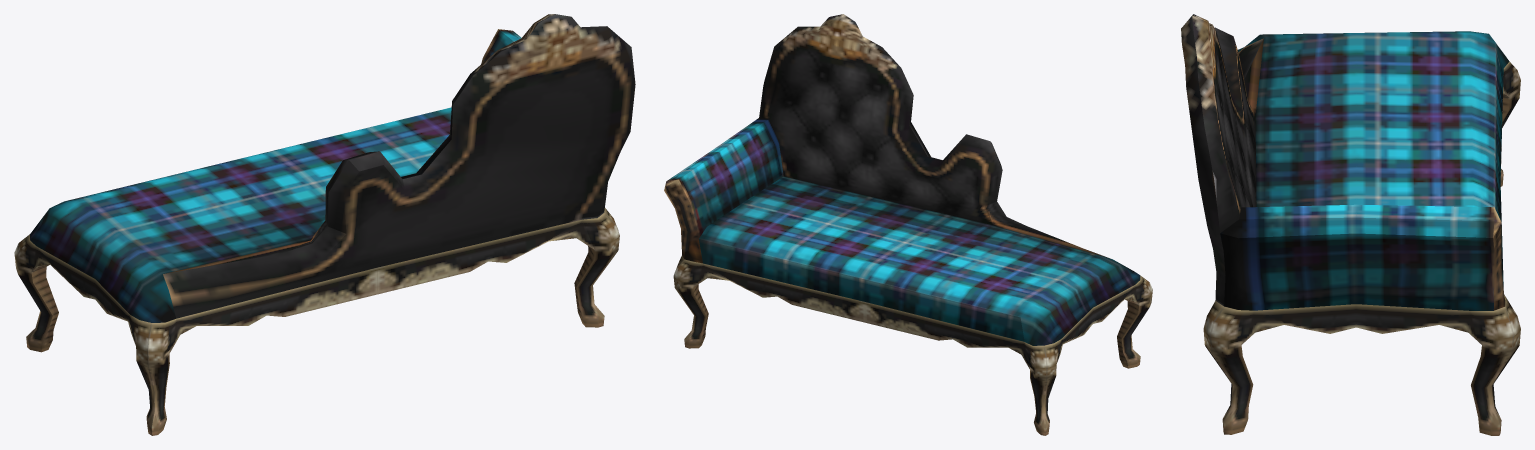
The model's file is furni_0200309_02.FBX.
3 renders of one model, left to right at view 1: azimuth 30°, elevation 25°; view 2: azimuth 150°, elevation 25°; view 3: azimuth 270°, elevation 25°, orthographic. The views are drawn at different scales.
Visible parts, largest first — view 1: furni_0200309_02; view 2: furni_0200309_02; view 3: furni_0200309_02.
Part boxes in pixels (x1=…): furni_0200309_02: x1=14, y1=14, x2=635, y2=435; furni_0200309_02: x1=664, y1=14, x2=1152, y2=435; furni_0200309_02: x1=1181, y1=14, x2=1520, y2=435.
Size of the model in its own units: 159 by 103 by 82.54.
